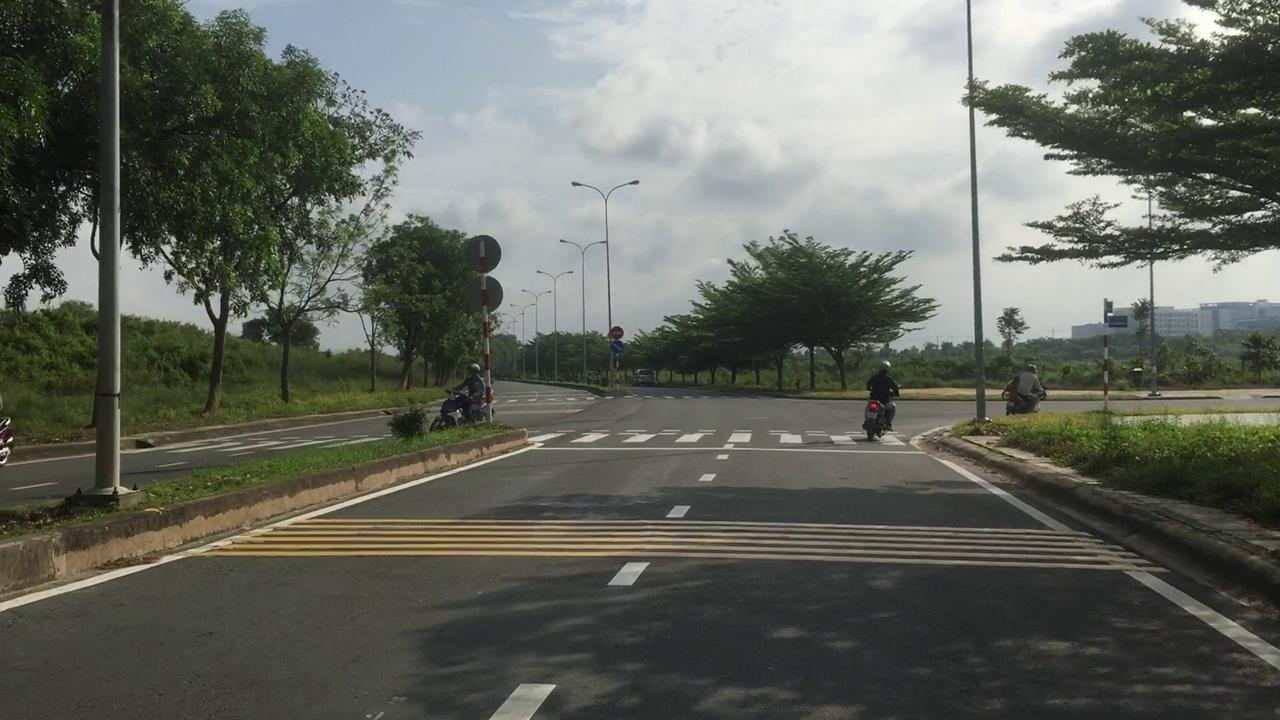DP.135: (610, 326, 624, 341)
P.130: (610, 341, 624, 354)
